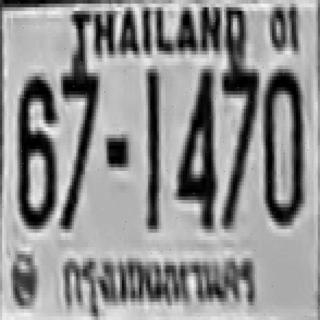N00: (262, 66, 302, 222)
N01: (145, 67, 160, 227)
N04: (176, 66, 213, 226)
N06: (16, 72, 56, 226)
N07: (60, 64, 99, 228), (220, 62, 257, 226), (220, 62, 257, 182)
P04: (61, 246, 259, 312)
